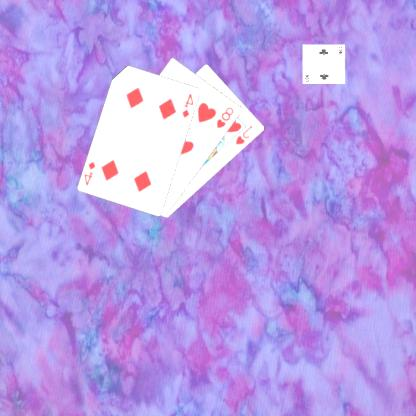4D: (83, 158, 99, 187), (181, 91, 197, 119)
8H: (216, 104, 237, 130)
JH: (235, 122, 256, 146)
